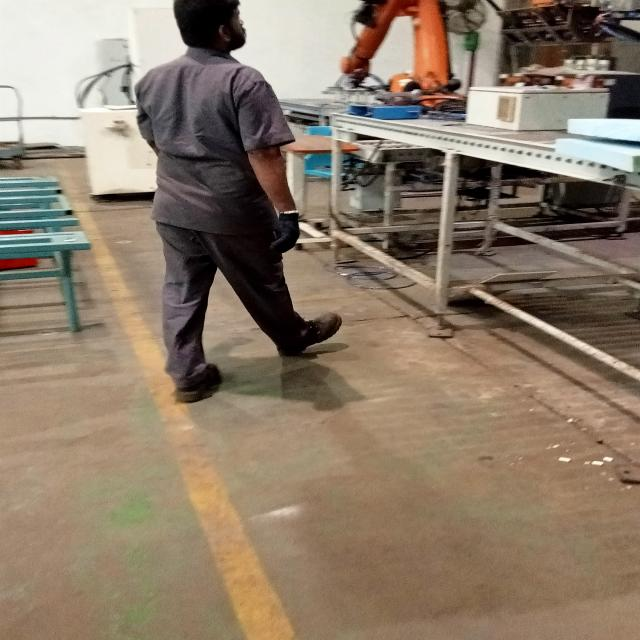Gloves-Detection: (268, 209, 301, 256)
